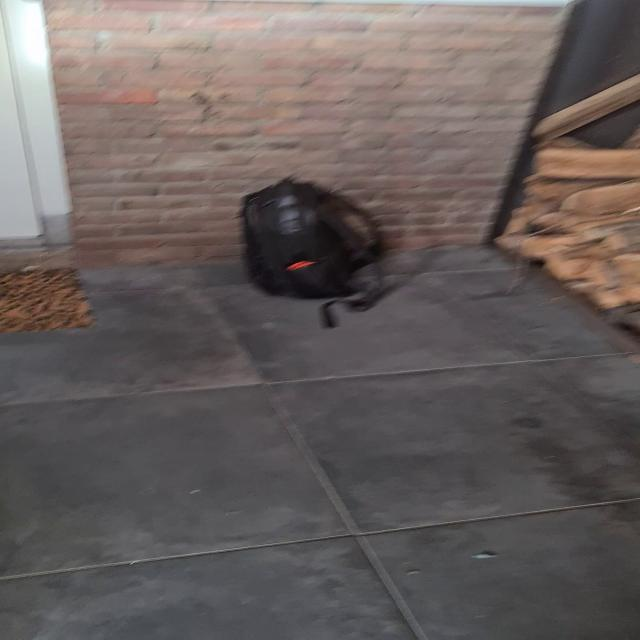backpack: (230, 171, 383, 306)
